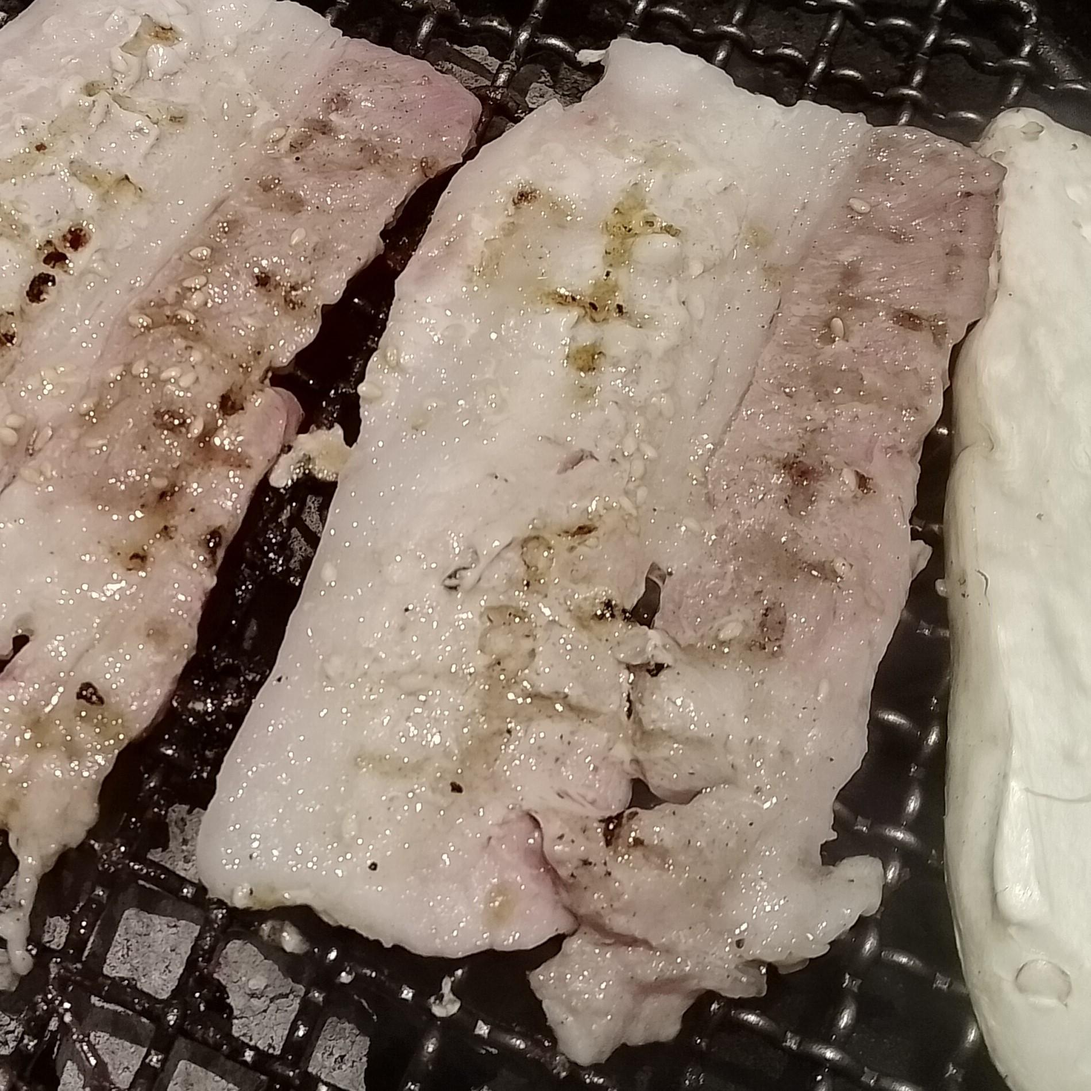Undercooked: (191, 41, 1008, 1067), (10, 34, 488, 437), (0, 426, 265, 877)
